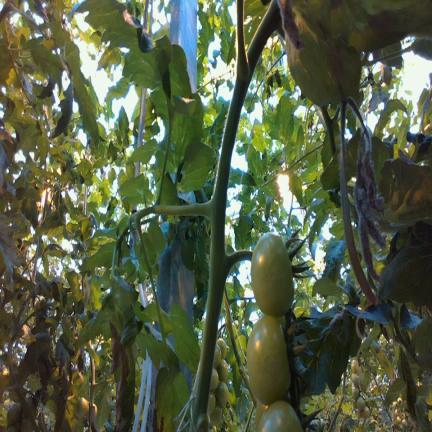6kp_peduncle: (207, 220, 254, 310), (218, 311, 234, 336)
6kp_petiole: (170, 153, 232, 253), (231, 1, 266, 110), (223, 286, 247, 320)
MainStem: (189, 1, 281, 430)
tomato: (247, 314, 290, 405), (251, 233, 293, 316), (257, 401, 302, 431), (255, 402, 268, 430), (216, 382, 229, 407), (76, 397, 89, 418), (217, 359, 228, 381), (210, 406, 222, 426), (217, 338, 227, 358), (211, 368, 219, 391), (87, 403, 98, 419), (214, 344, 221, 367), (208, 394, 216, 414), (356, 396, 365, 410), (351, 359, 359, 373), (362, 406, 370, 419), (352, 386, 359, 399), (352, 373, 358, 385), (53, 182, 59, 190), (357, 410, 362, 418), (78, 202, 83, 210), (394, 409, 399, 416), (396, 416, 401, 422), (393, 401, 398, 407), (397, 398, 402, 404), (402, 419, 406, 424)
